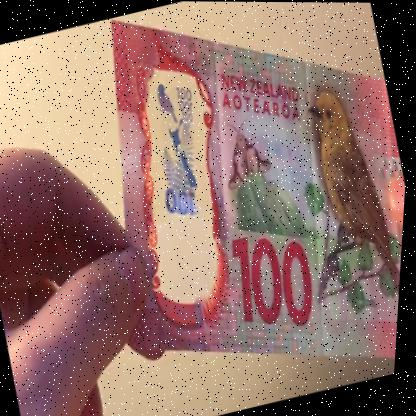100B: (132, 68, 238, 249)
